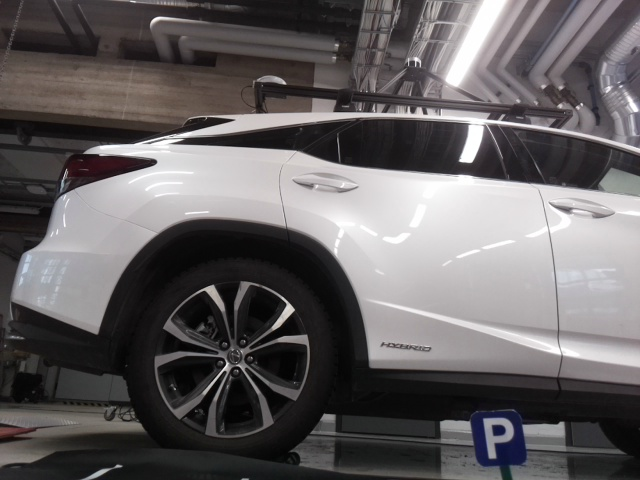Parking: (469, 412, 526, 465)
